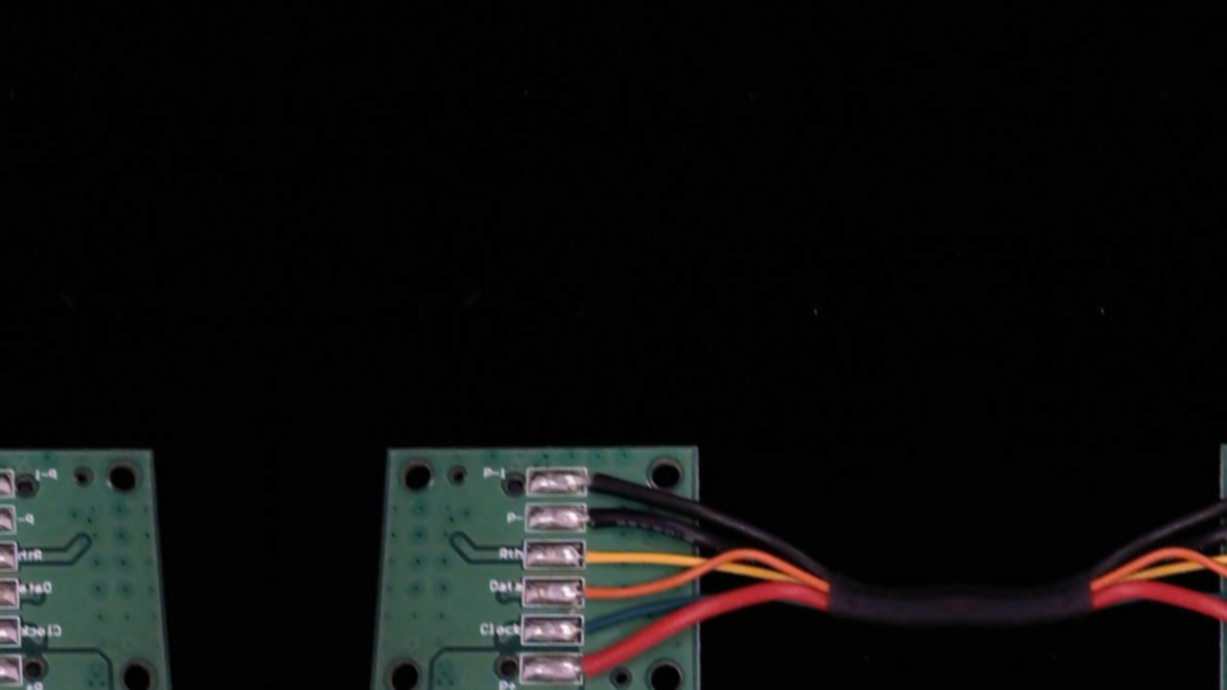Black: (563, 502, 633, 535)
Black1: (567, 463, 631, 495)
Green: (558, 613, 615, 643)
Orange: (560, 575, 629, 606)
Red: (562, 655, 620, 684)
Yellow: (561, 538, 632, 570)
